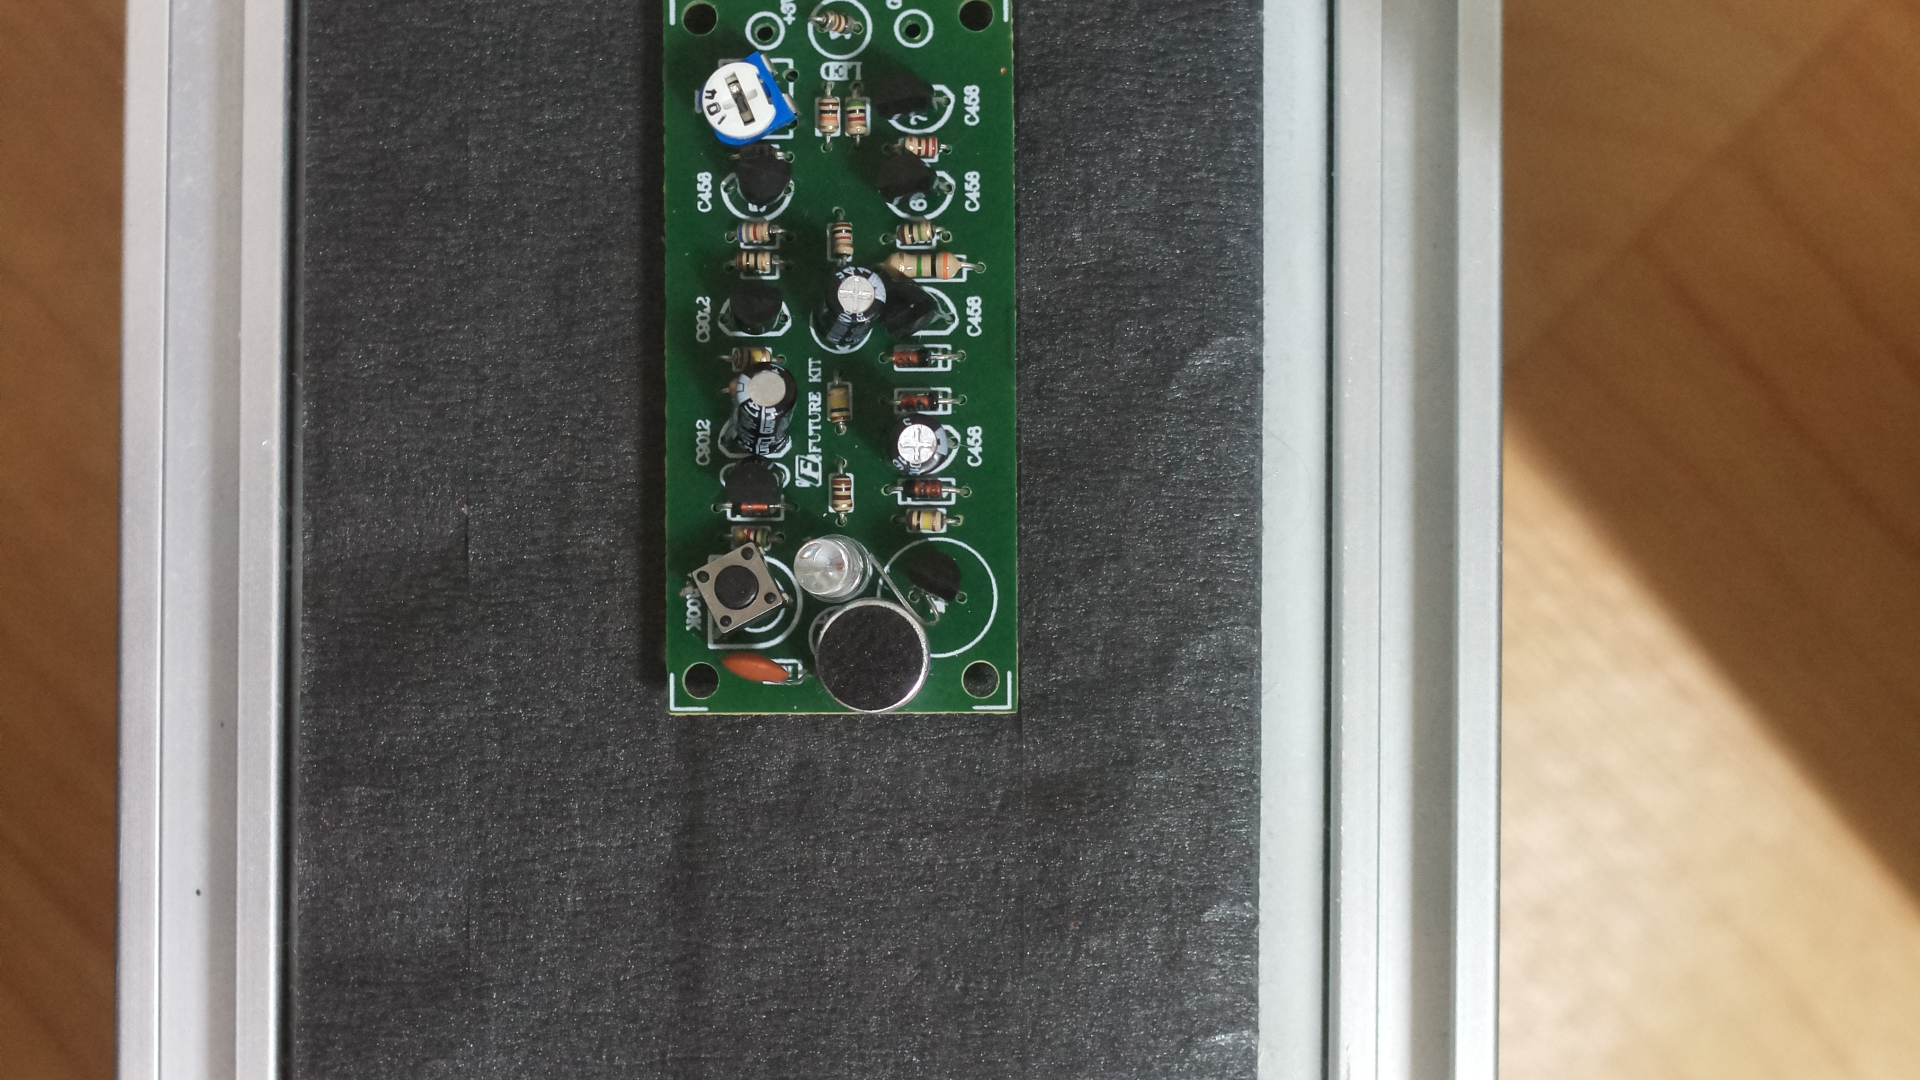A_Misordered: (653, 1, 1036, 738)
